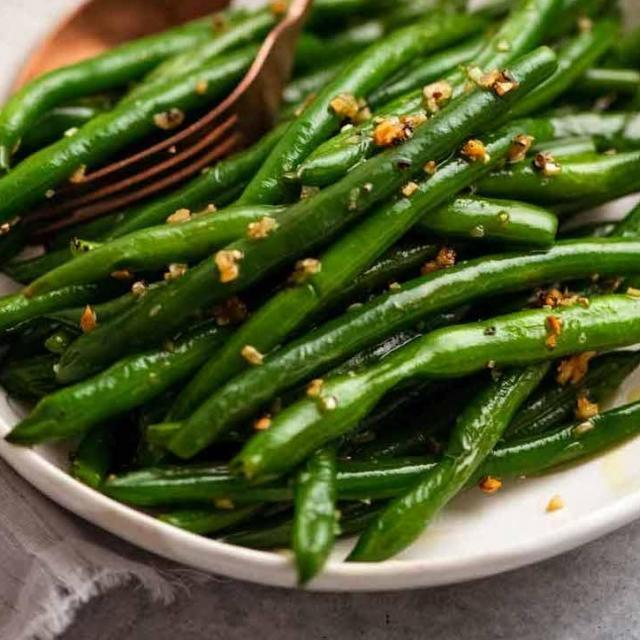Beans: (0, 0, 639, 581)
